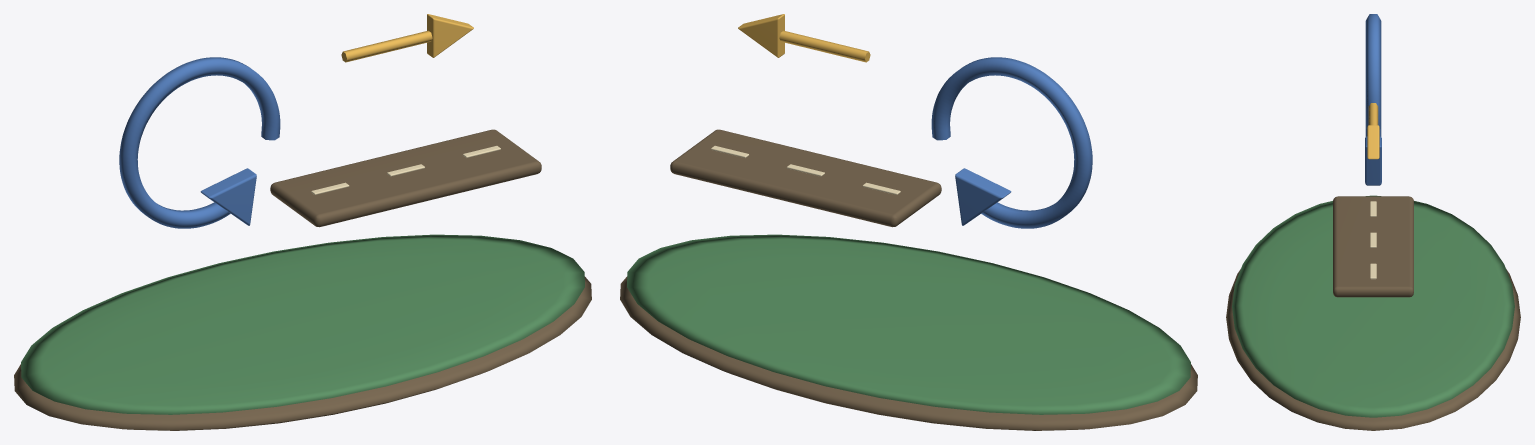
File: complete-second-forever-far.glb
3 renders of one model, left to right at view 1: azimuth 30°, elevation 25°; view 2: azimuth 150°, elevation 25°; view 3: azimuth 270°, elevation 25°, orthographic. The views are drawn at different scales.
Visible parts, largest first — view 1: complete-second-forever-far_surface_01, complete-second-forever-far_surface_00, complete-second-forever-far_surface_02, complete-second-forever-far_surface_04, complete-second-forever-far_surface_03; view 2: complete-second-forever-far_surface_01, complete-second-forever-far_surface_00, complete-second-forever-far_surface_02, complete-second-forever-far_surface_04, complete-second-forever-far_surface_03; view 3: complete-second-forever-far_surface_01, complete-second-forever-far_surface_00, complete-second-forever-far_surface_02, complete-second-forever-far_surface_04, complete-second-forever-far_surface_03.
Part boxes in pixels (x1,y1,x2,y2): complete-second-forever-far_surface_01: (21, 234, 584, 414); complete-second-forever-far_surface_00: (14, 129, 591, 430); complete-second-forever-far_surface_02: (119, 57, 280, 228); complete-second-forever-far_surface_04: (341, 14, 473, 62); complete-second-forever-far_surface_03: (311, 145, 500, 194); complete-second-forever-far_surface_01: (627, 234, 1190, 414); complete-second-forever-far_surface_00: (620, 129, 1197, 430); complete-second-forever-far_surface_02: (931, 57, 1092, 228); complete-second-forever-far_surface_04: (738, 14, 870, 62); complete-second-forever-far_surface_03: (711, 145, 900, 194); complete-second-forever-far_surface_01: (1232, 195, 1514, 417); complete-second-forever-far_surface_00: (1226, 196, 1520, 430); complete-second-forever-far_surface_02: (1365, 14, 1381, 185); complete-second-forever-far_surface_04: (1367, 103, 1379, 159); complete-second-forever-far_surface_03: (1370, 201, 1376, 279).
Bounding box in the file's own units: 4.56 × 2.51 × 2.5.
